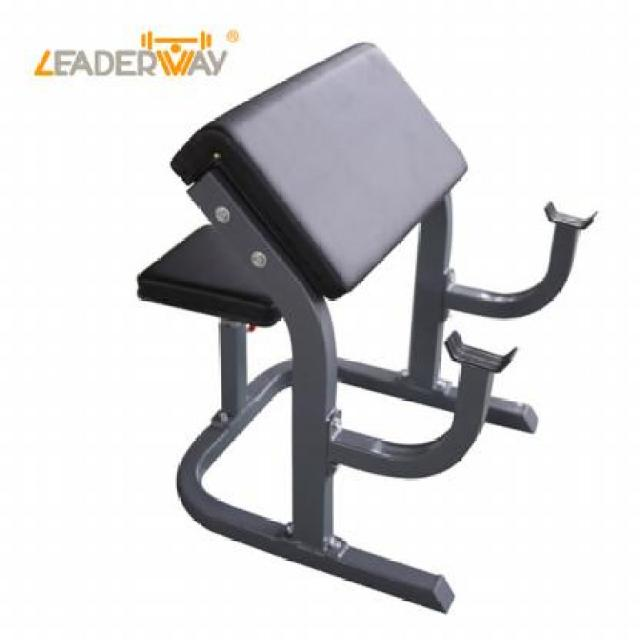arm curl machine: (137, 77, 600, 612)
